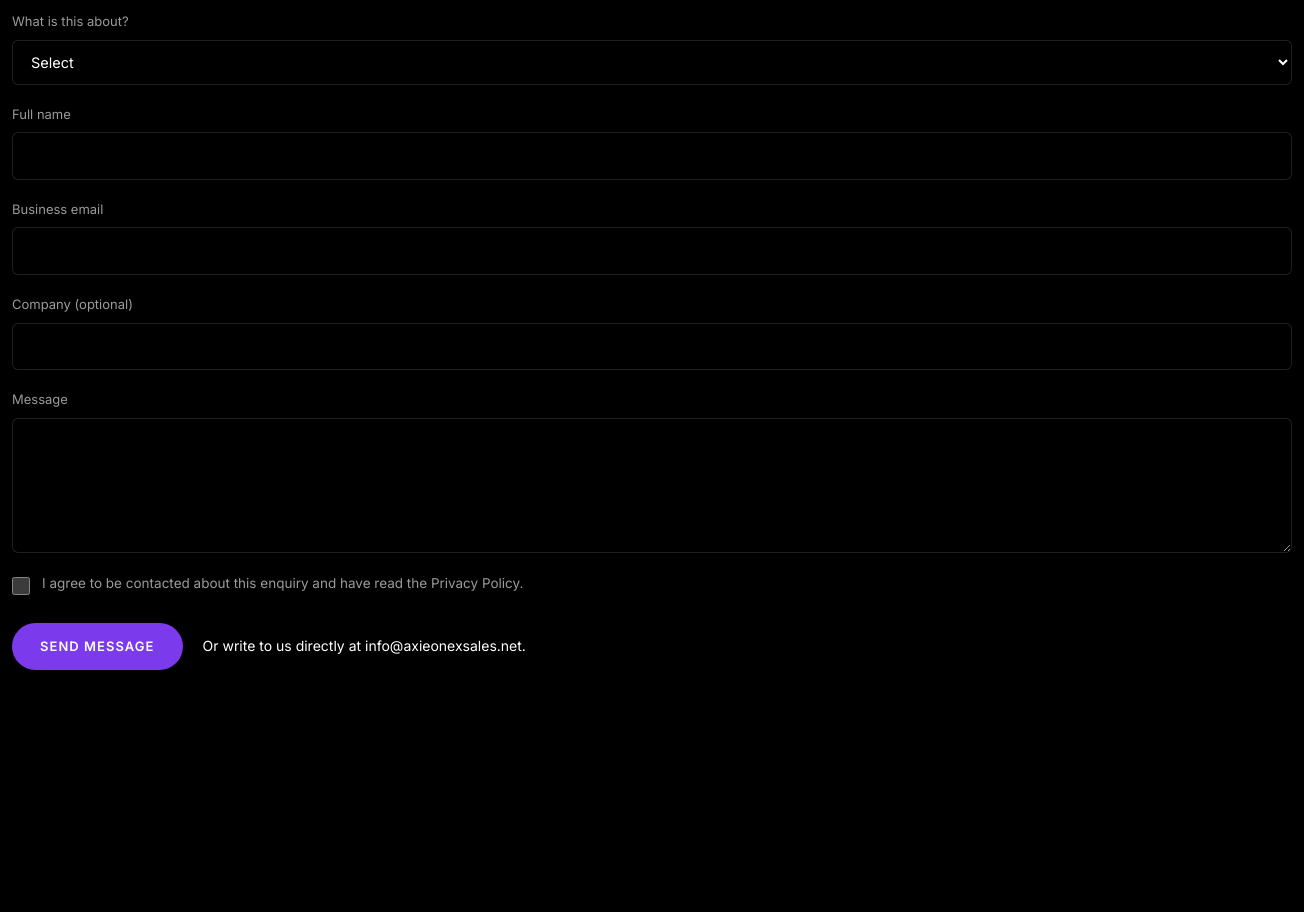
Scenario: ContactForm › shows field-level validation errors on an empty submit
Click the button "Send message". click: (97, 646)
box: [12, 622, 182, 670]
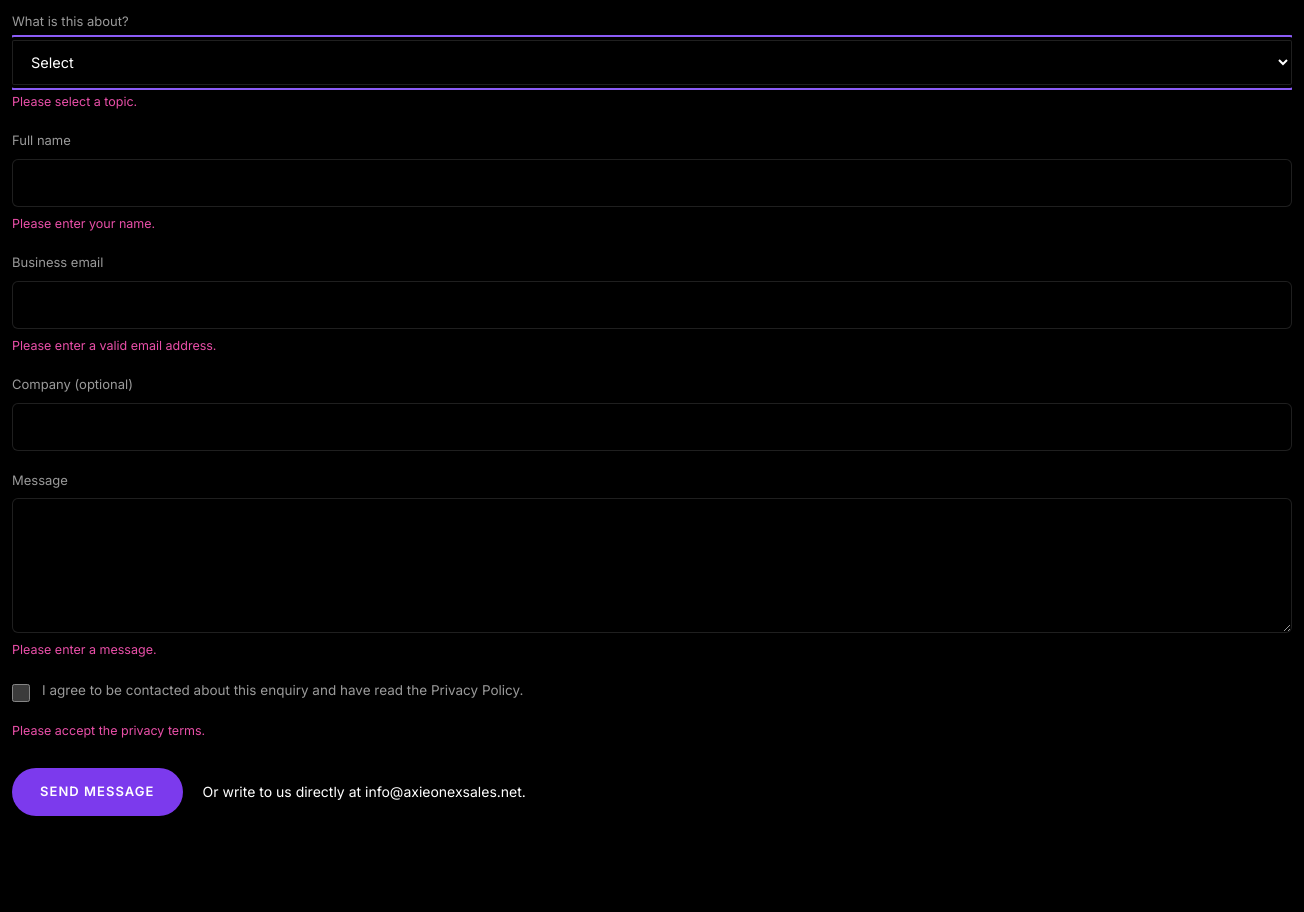
Now the text "Please accept the privacy terms." is shown, box [12, 722, 205, 738]
Now the text "Please select a topic." is shown, box [12, 94, 137, 108]
Now the text "Please enter your name." is shown, box [12, 216, 155, 230]
